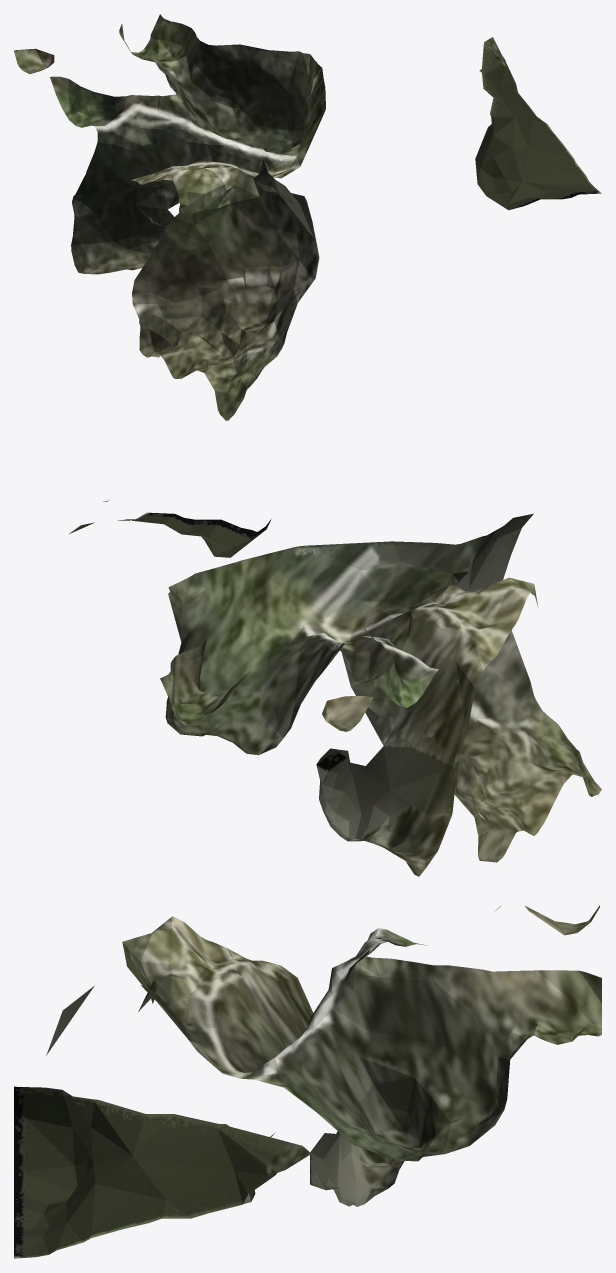
3 renders of one model, top to bottom at view 1: azimuth 30°, elevation 25°; view 2: azimuth 150°, elevation 25°; view 3: azimuth 270°, elevation 25°, orthographic. The views are drawn at different scales.
Size of the model in its own units: 5.9 by 3.25 by 5.9.
Materials: 3 (3 with a texture image).
